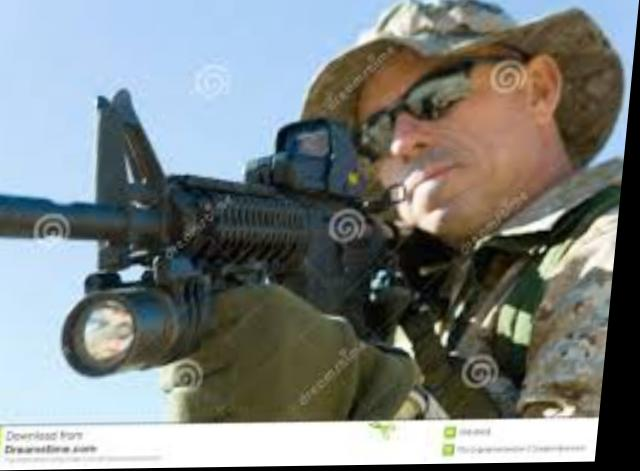other: (193, 0, 640, 418)
